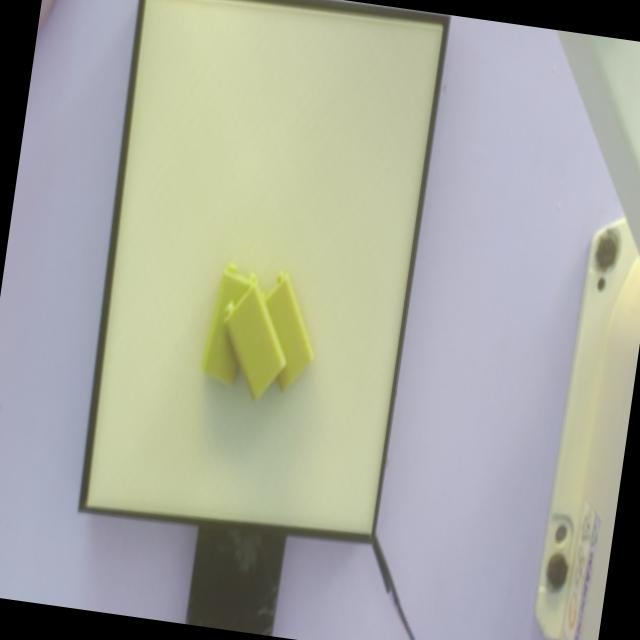bateria: (222, 281, 286, 403)
mesa: (78, 0, 450, 545)
